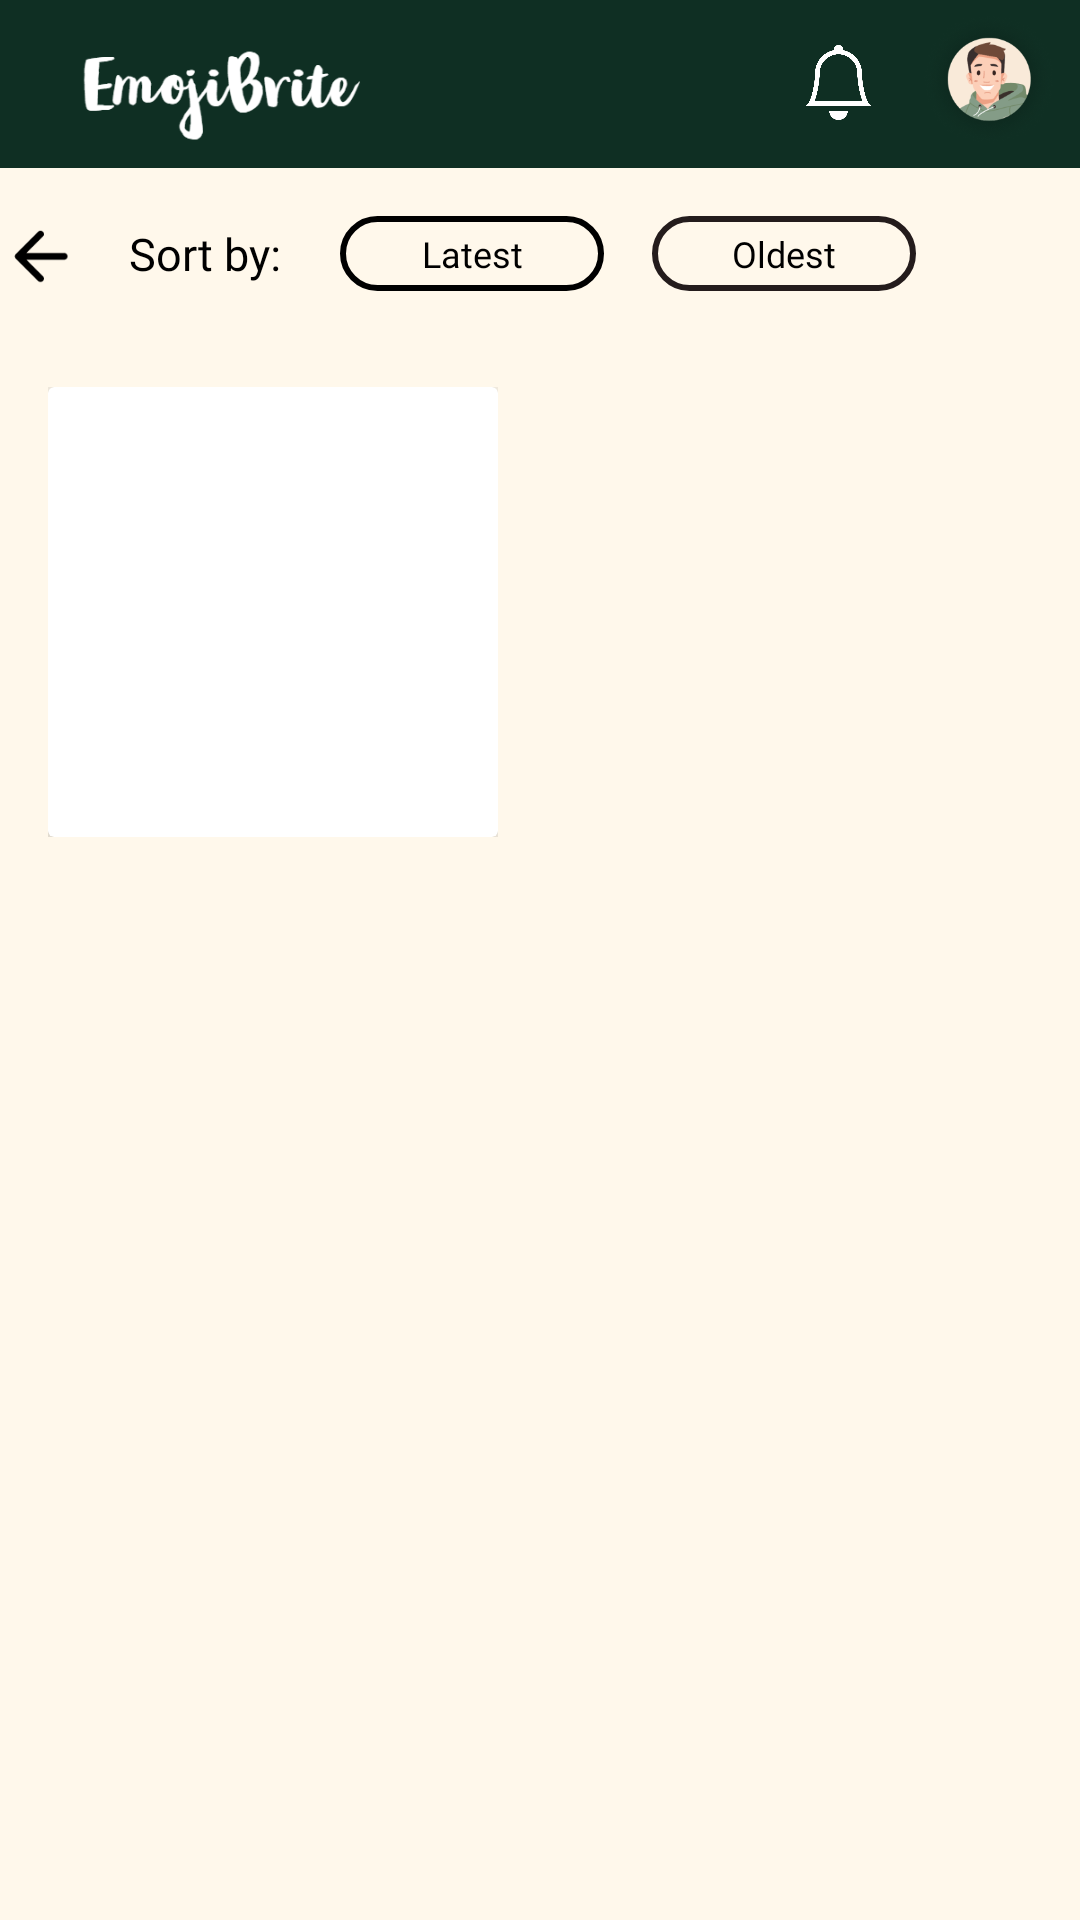

Locate icon controls on the screen. Image size 1080x1920, boxes as (x1, y1, x2, y2).
back arrow: (14, 230, 68, 283)
bi bell: (806, 45, 871, 120)
profile pic: (947, 38, 1031, 121)
